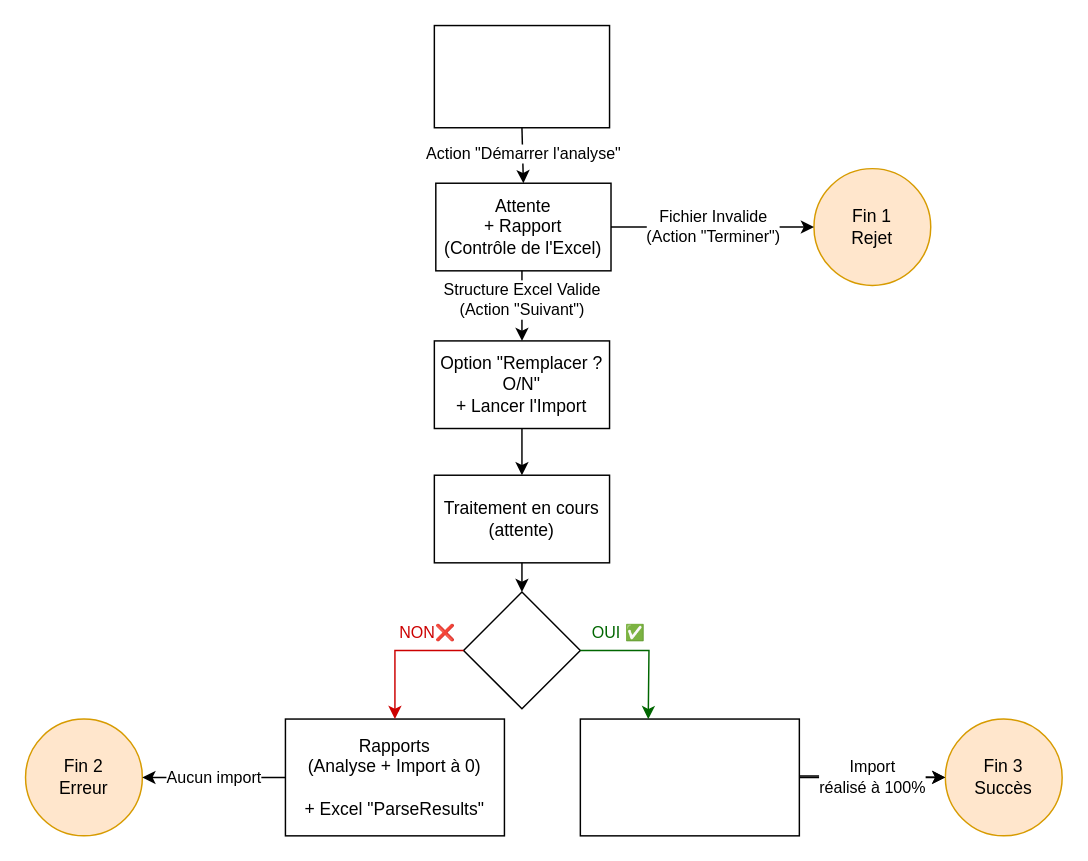
This 1088x861 diagram has some shape labels left out. Here are the shapes that lost their labels. From the top down, the centre of each, then its label:
point 521,76: Excel File Upload
point 521,650: Excel 100% OK ?
point 689,777: Rapports (Analyse + Import) + Excel "ImportResults"
